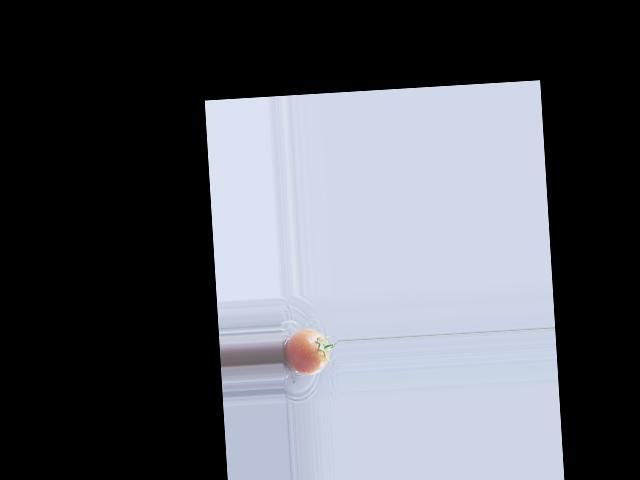tomato: (283, 328, 330, 376)
